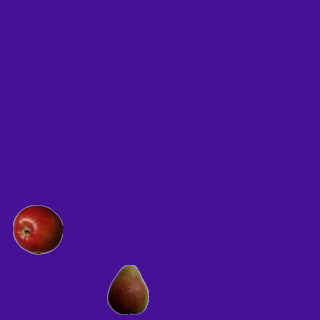Apple Braeburn: (12, 204, 62, 254)
Pear Forelle: (102, 264, 152, 314)
